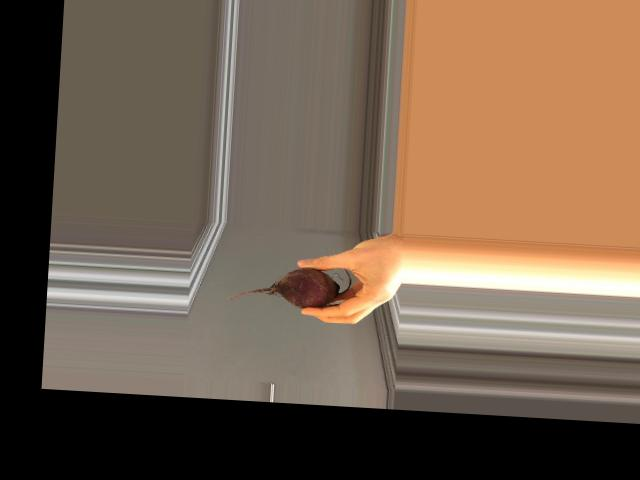beet: (223, 262, 350, 309)
